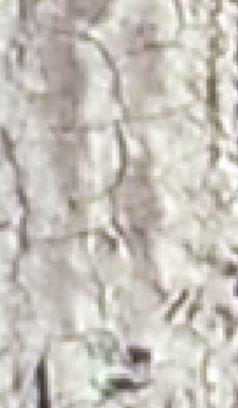cotton: (90, 378, 110, 394)
